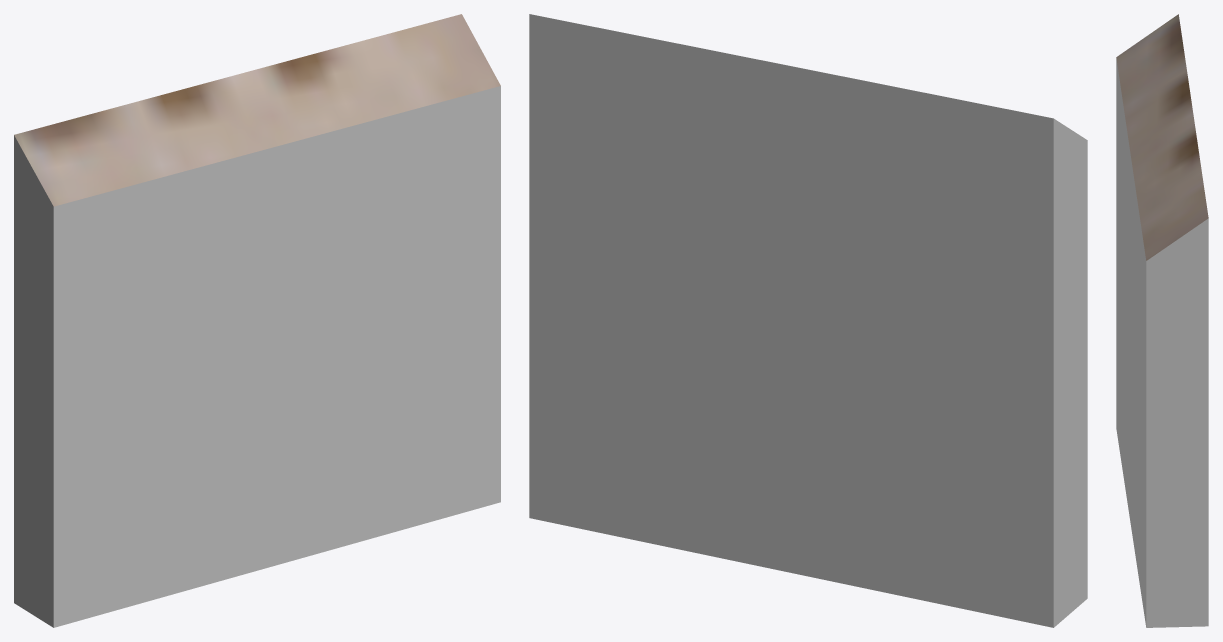
The model's file is DEBW_0010007THXc.gltf.
3 views of the same model, side by side, from view 1: azimuth 30°, elevation 25°; view 2: azimuth 150°, elevation 25°; view 3: azimuth 270°, elevation 25° (orthographic). The views are drawn at different scales.
Parts seen in each view (by area): view 1: Z_UP; view 2: Z_UP; view 3: Z_UP.
Part boxes in pixels (x1,y1,x2,y2): Z_UP: (14, 14, 500, 627); Z_UP: (529, 14, 1087, 627); Z_UP: (1116, 14, 1208, 627).
Bounding box in the file's own units: 7.64 × 7.3 × 1.48.
Materials: 2 (1 with a texture image).
